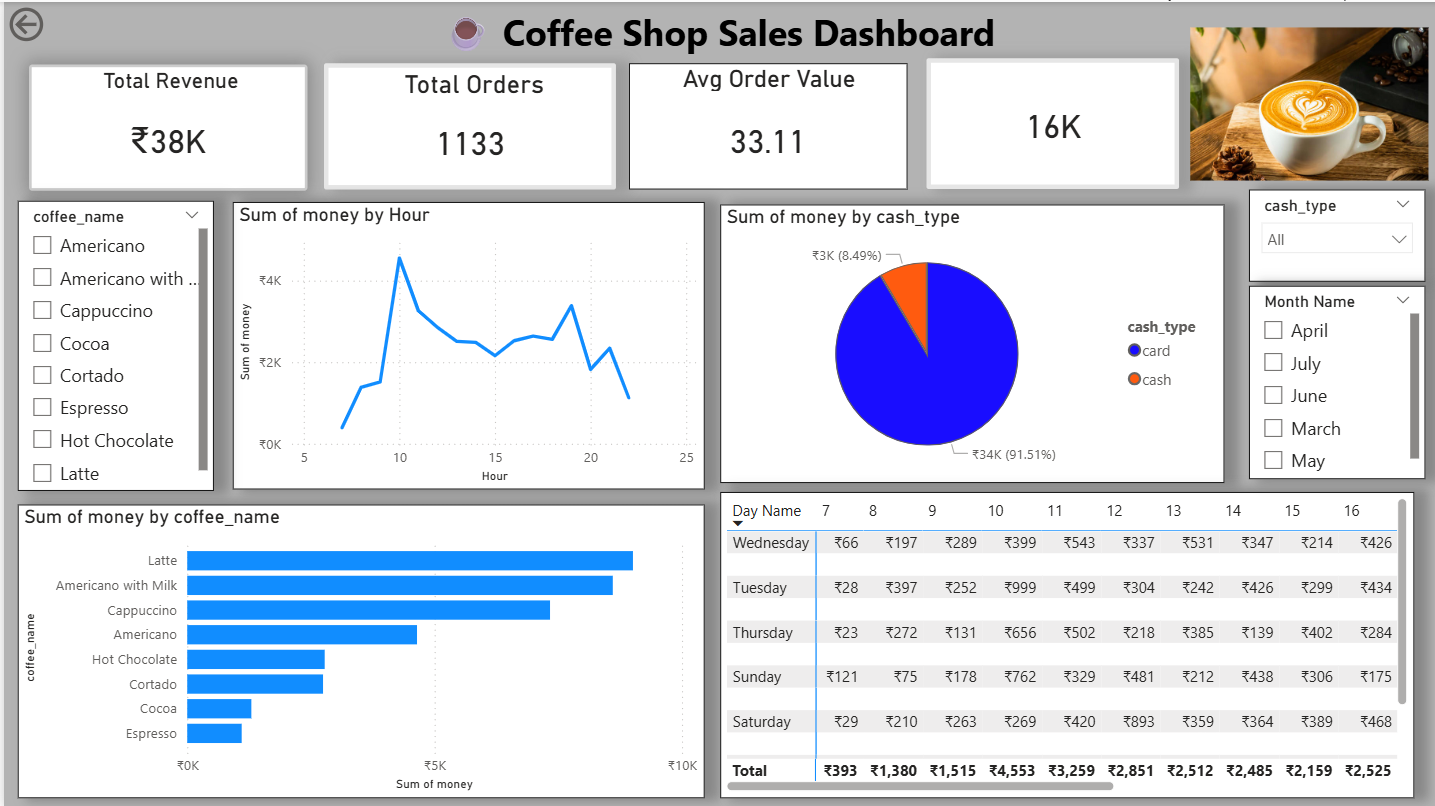

The dashboard page shown, as its layout file describes it:
{"tool":"powerbi","page":{"name":"Page 1","canvas":[1280,720],"ordinal":0},"visuals":[{"type":"card","title":"Total Revenue","fields":{"Values":["Sum(coffee_sales.money)"]},"box":[22.1,55.8,248.8,112.8],"z":0},{"type":"card","title":"Total Orders","fields":{"Values":["coffee_sales.Total Orders"]},"box":[286,54.7,260.5,112.8],"z":1000},{"type":"card","title":"Avg Order Value","fields":{"Values":["coffee_sales.Avg Order Value"]},"box":[558.1,54.7,248.8,112.8],"z":2000},{"type":"lineChart","fields":{"Category":["coffee_sales.Hour"],"Y":["Sum(coffee_sales.money)"]},"box":[204.3,178.6,421.4,257.1],"z":3000},{"type":"clusteredBarChart","fields":{"Category":["coffee_sales.coffee_name"],"Y":["Sum(coffee_sales.money)"]},"box":[12.5,448.8,613.8,262.5],"z":4000},{"type":"pieChart","fields":{"Category":["coffee_sales.cash_type"],"Y":["Sum(coffee_sales.money)"]},"box":[640,181.4,450,248.6],"z":5000},{"type":"pivotTable","fields":{"Rows":["coffee_sales.Day Name"],"Columns":["coffee_sales.Hour"],"Values":["Sum(coffee_sales.money)"]},"box":[640,437.5,620,273.8],"z":6000},{"type":"actionButton","box":[0,0,100,40],"z":7000},{"type":"slicer","fields":{"Values":["coffee_sales.coffee_name"]},"box":[12.8,177.9,175.6,259.3],"z":8000},{"type":"slicer","fields":{"Values":["coffee_sales.cash_type"]},"box":[1112.5,167.5,157.5,82.5],"z":9000},{"type":"slicer","fields":{"Values":["coffee_sales.Month Name"]},"box":[1112.5,253.8,157.5,172.5],"z":10000},{"type":"textbox","box":[379.1,0,520.9,54.7],"z":11000},{"type":"card","title":"Sum of Hour","fields":{"Values":["Sum(coffee_sales.Hour)"]},"box":[824.3,50,225.7,117.1],"z":12000},{"type":"image","box":[1060,1.2,212.5,180],"z":13000}]}

Visuals, with their boxes in screenshot pixels (x1, y1, x2, y2), scaled from the page's 1280x720 canvas onto the 1435x806 screenshot:
"Total Revenue" card: region(25, 62, 304, 189)
"Total Orders" card: region(321, 61, 613, 188)
"Avg Order Value" card: region(626, 61, 905, 188)
lineChart - coffee_sales.Hour x Sum(coffee_sales.money): region(229, 200, 701, 488)
clusteredBarChart - coffee_sales.coffee_name x Sum(coffee_sales.money): region(14, 502, 702, 796)
pieChart - coffee_sales.cash_type x Sum(coffee_sales.money): region(718, 203, 1222, 481)
pivotTable - coffee_sales.Day Name x coffee_sales.Hour: region(718, 490, 1413, 796)
actionButton: region(0, 0, 112, 45)
slicer - coffee_sales.coffee_name: region(14, 199, 211, 489)
slicer - coffee_sales.cash_type: region(1247, 188, 1424, 280)
slicer - coffee_sales.Month Name: region(1247, 284, 1424, 477)
textbox: region(425, 0, 1009, 61)
"Sum of Hour" card: region(924, 56, 1177, 187)
image: region(1188, 1, 1427, 203)
